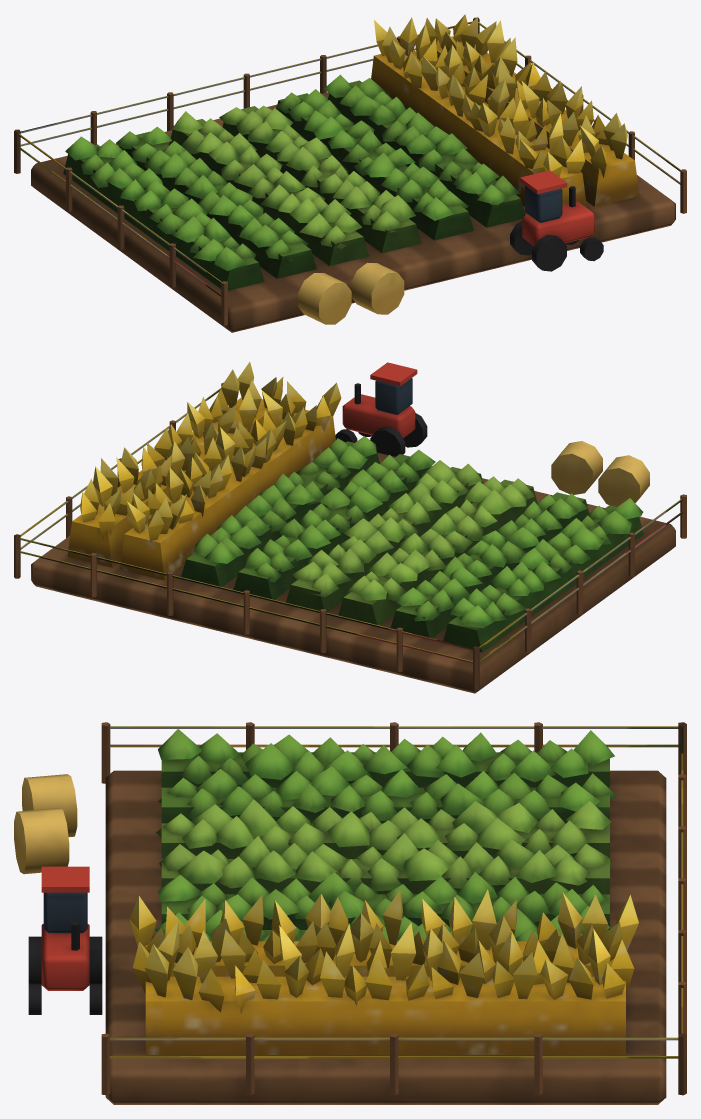
The model's file is crop_field.glb.
3 views of the same model, one above another, from view 1: azimuth 30°, elevation 25°; view 2: azimuth 150°, elevation 25°; view 3: azimuth 270°, elevation 25° (orthographic). The views are drawn at different scales.
Parts seen in each view (by area): view 1: crop_field; view 2: crop_field; view 3: crop_field.
Part boxes in pixels (<box>): crop_field: <box>14,14,686,332</box>; crop_field: <box>14,362,686,693</box>; crop_field: <box>14,722,686,1104</box>.
Bounding box in the file's own units: 0.9314 × 0.1925 × 0.8405.
1 material, 1 textured.
